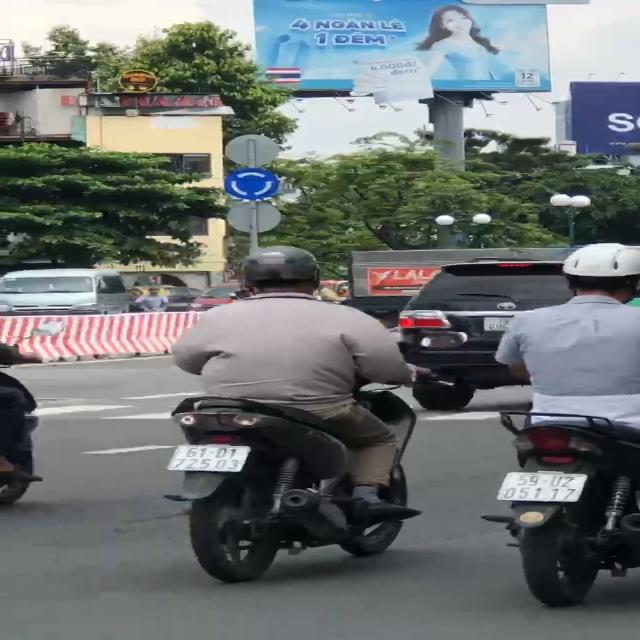Bien bao noi giao nhau chay theo vong xuyen: (222, 167, 282, 200)
